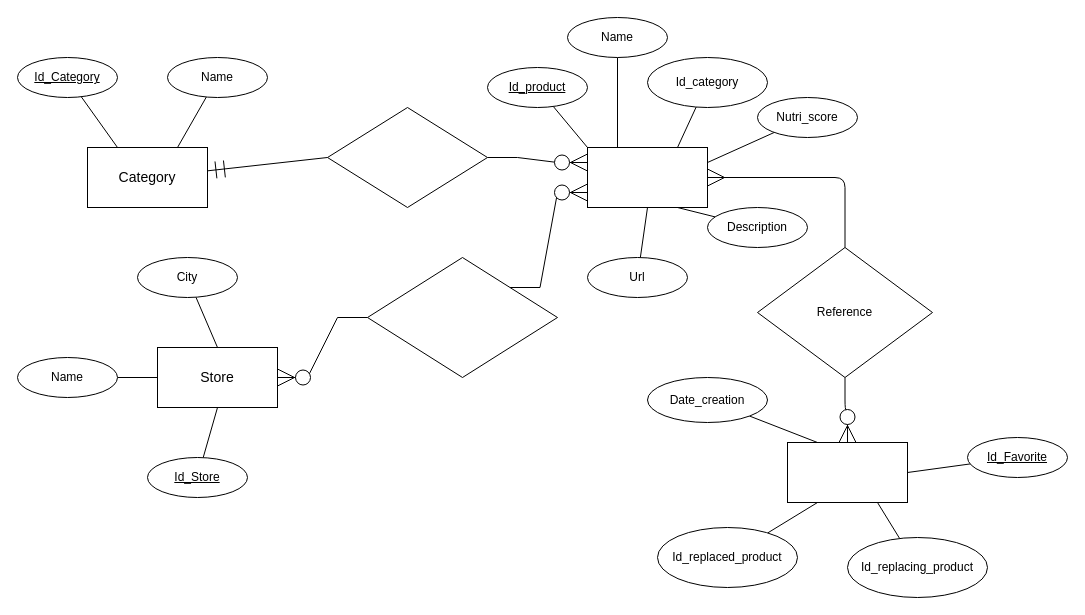
The diagram is 1085 pixels wide and 615 high, and some of its shapes have lost their labels. The centre of each missing label's shape, as x and y in pixels:
"Categorize" goes at point (407, 157).
"Favorite" goes at point (847, 472).
"Product" goes at point (647, 177).
"Stock" goes at point (462, 317).
